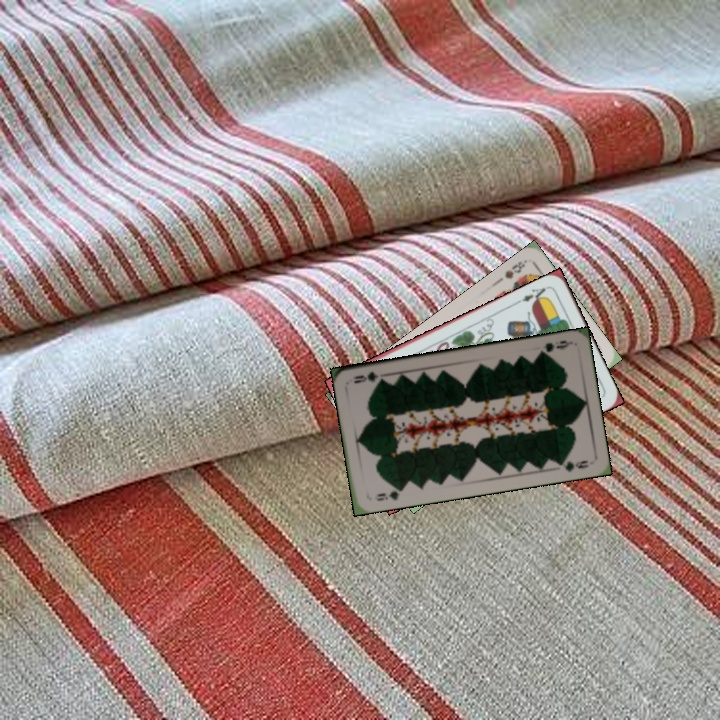EA: (513, 283, 549, 307)
G9: (534, 336, 574, 358), (372, 483, 406, 504)
S8: (501, 256, 530, 282)
